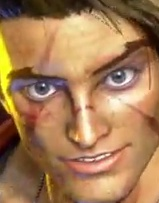kevin: (8, 0, 158, 201)
